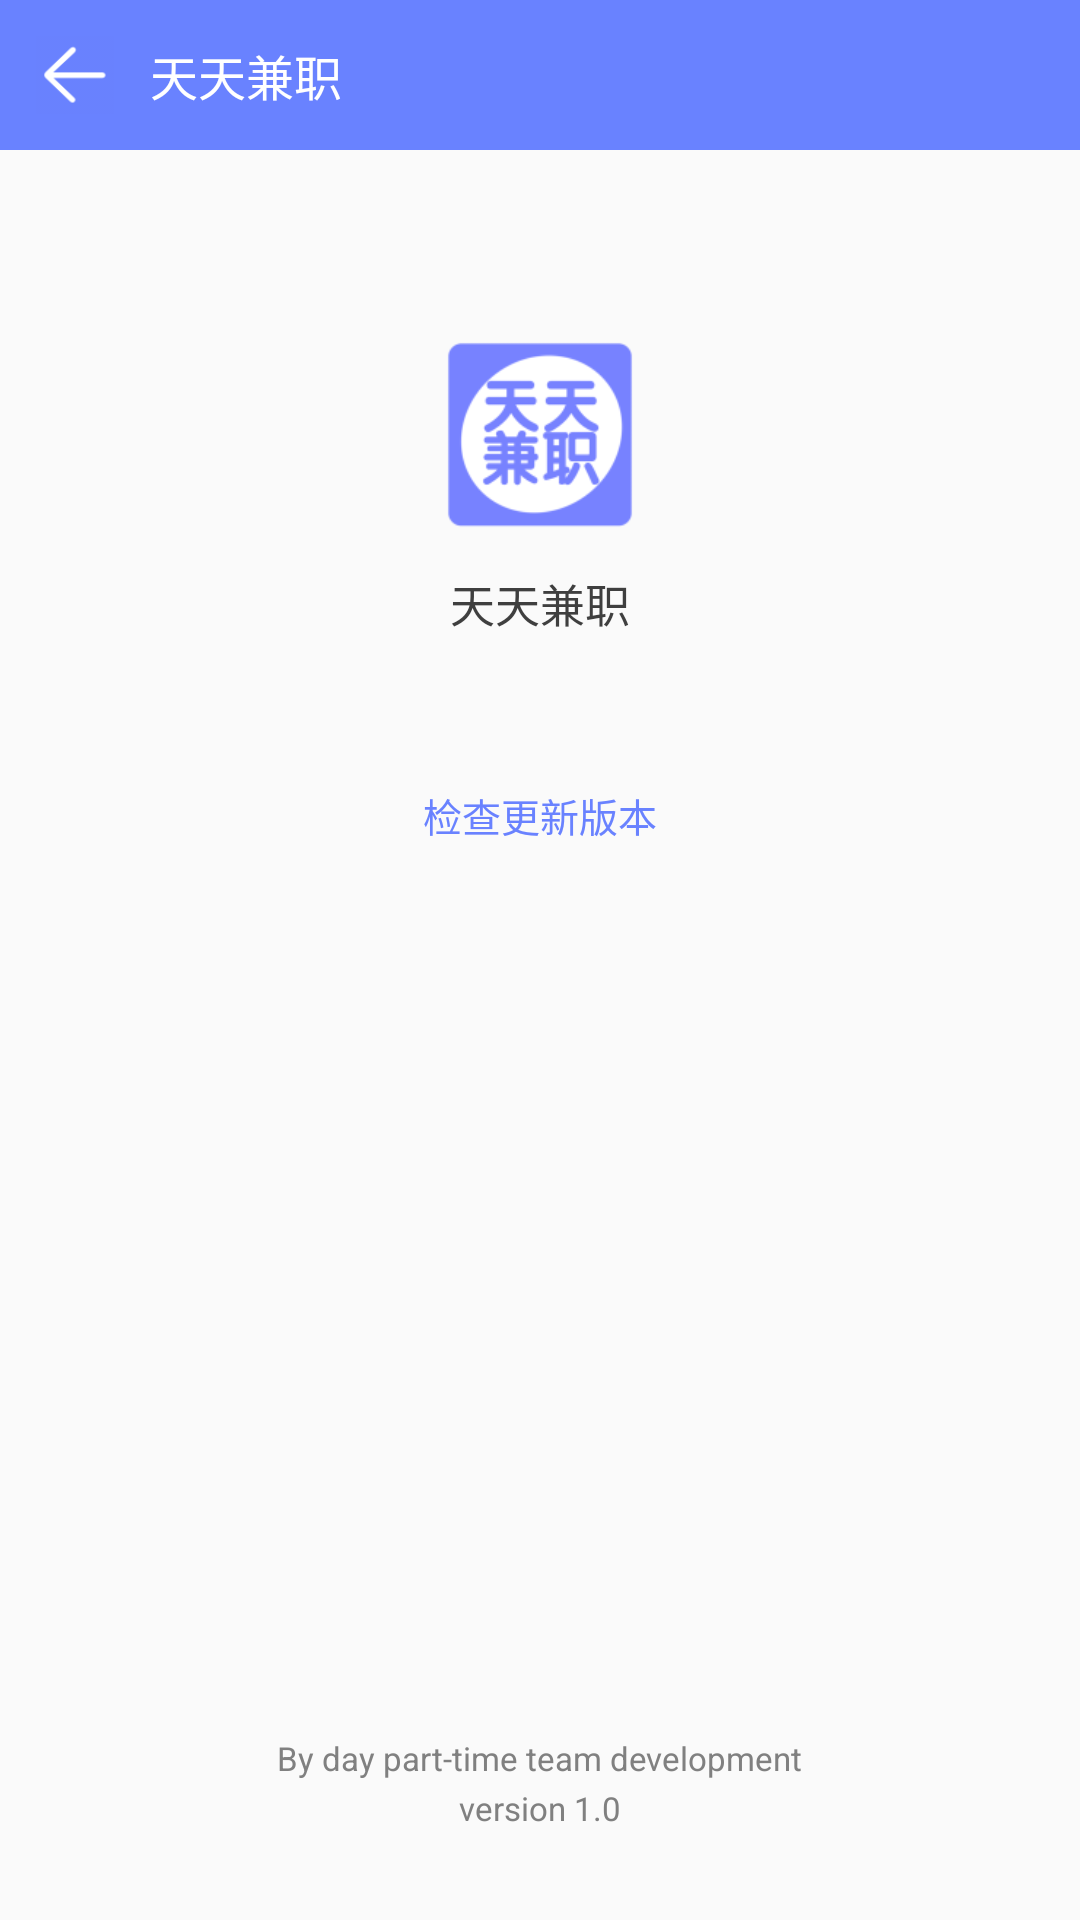

Point at icon controls on the screen. Image size 1080 x 1920, points as [x,y].
back: [75,75]
